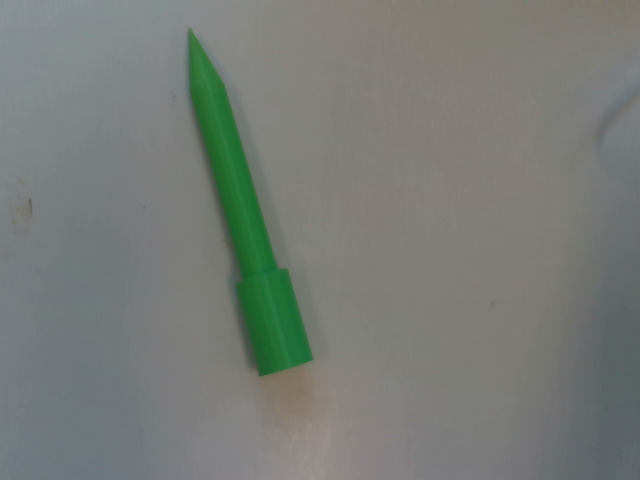Probe: (184, 19, 319, 388)
